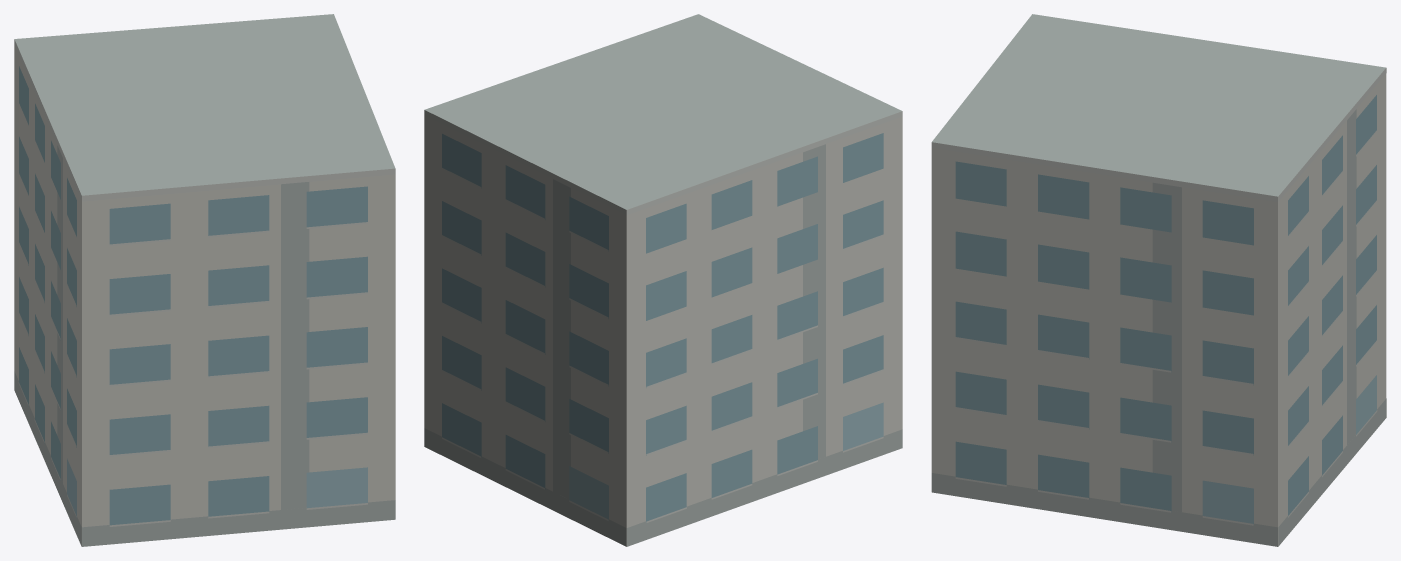
Rendered from survey-upis-32889829.glb.
3 renders of one model, left to right at view 1: azimuth 30°, elevation 25°; view 2: azimuth 150°, elevation 25°; view 3: azimuth 270°, elevation 25°, orthographic. The views are drawn at different scales.
Parts seen in each view (by area): view 1: survey-upis-32889829.tmp; view 2: survey-upis-32889829.tmp; view 3: survey-upis-32889829.tmp.
Boxes of the visible parts, <box> form: survey-upis-32889829.tmp: <box>14,14,395,546</box>; survey-upis-32889829.tmp: <box>424,14,902,546</box>; survey-upis-32889829.tmp: <box>931,14,1386,546</box>.
Bounding box in the file's own units: 16.56 × 14.8 × 17.43.
